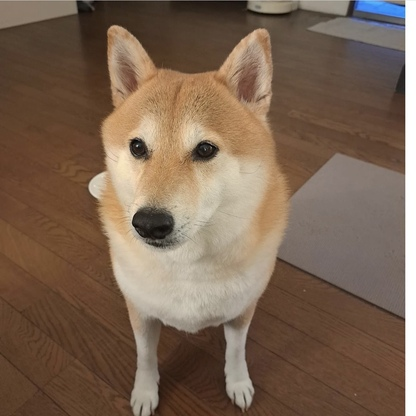akita: (82, 18, 296, 416)
